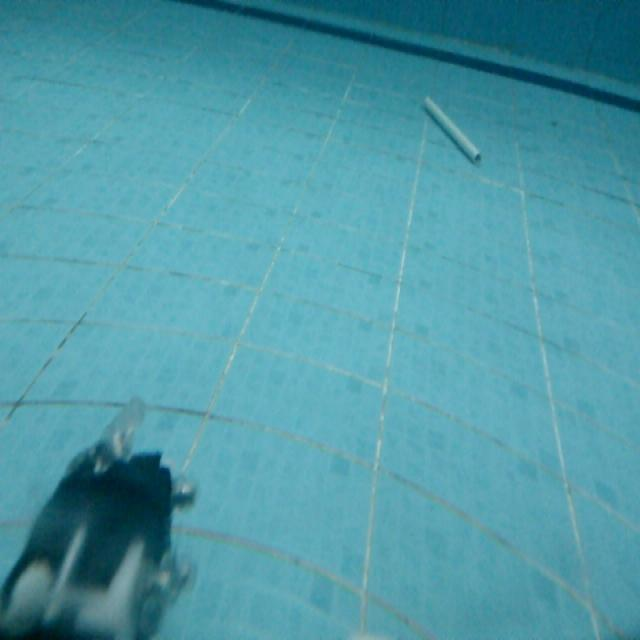Cube: (420, 90, 483, 166)
